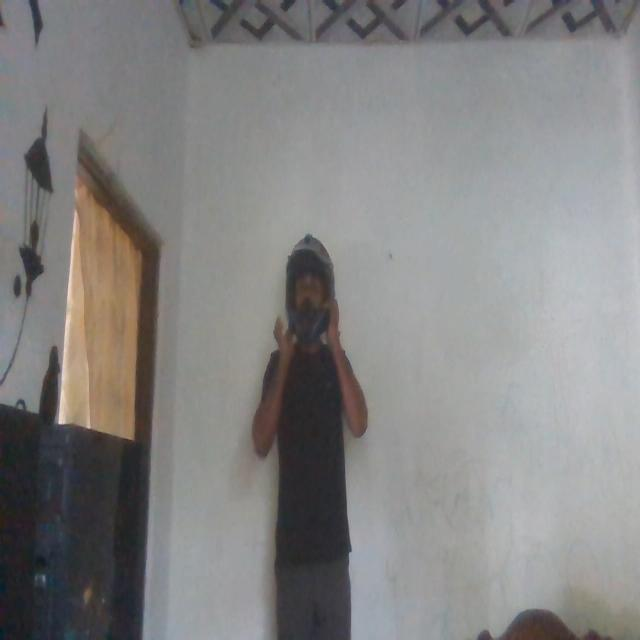Helmet_Wearer: (270, 225, 346, 366)
Person: (252, 237, 378, 640)
